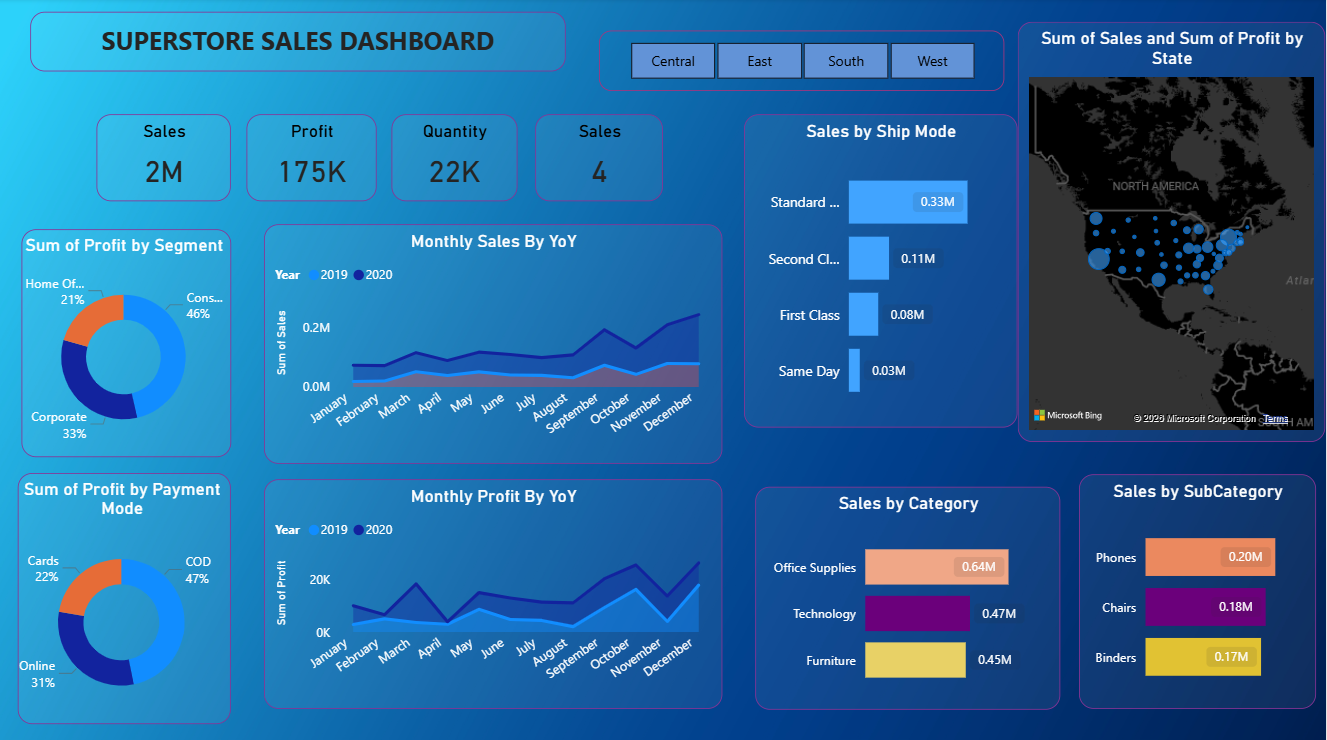

This screenshot's page, from the dashboard's own definition file:
{"tool":"powerbi","page":{"name":"Page 1","canvas":[1280,720],"ordinal":0},"visuals":[{"type":"clusteredBarChart","title":" Sales by Category","fields":{"Category":["Sheet1.Category"],"Y":["Sum(Sheet1.Sales)"]},"box":[729.8,471.3,294.7,214.9],"z":0},{"type":"clusteredBarChart","title":"Sales by SubCategory","fields":{"Category":["Sheet1.Sub-Category"],"Y":["Sum(Sheet1.Sales)"]},"box":[1042.6,459.6,228.7,226.6],"z":1000},{"type":"clusteredBarChart","title":"Sales by Ship Mode","fields":{"Category":["Sheet1.Ship Mode"],"Y":["Sum(Sheet1.Sales)"]},"box":[719.1,112.8,263.8,302.1],"z":2000},{"type":"stackedAreaChart","title":" Monthly Profit By YoY","fields":{"Category":["Sheet1.Order Date.Variation.Date Hierarchy.Month"],"Series":["Sheet1.Order Date.Variation.Date Hierarchy.Year"],"Y":["Sum(Sheet1.Profit)"]},"box":[255.3,464.9,442.6,221.3],"z":3000},{"type":"stackedAreaChart","title":" Monthly Sales By YoY","fields":{"Y":["Sum(Sheet1.Sales)"],"Category":["Sheet1.Order Date.Variation.Date Hierarchy.Month"],"Series":["Sheet1.Order Date.Variation.Date Hierarchy.Year"]},"box":[255.3,218.1,442.6,230.9],"z":4000},{"type":"map","fields":{"Category":["Sheet1.State"],"Size":["Sum(Sheet1.Sales)"]},"box":[983,22.3,296.8,405.3],"z":5000},{"type":"donutChart","fields":{"Category":["Sheet1.Segment"],"Y":["Sum(Sheet1.Profit)"]},"box":[21.3,223.4,202.1,220.2],"z":6000},{"type":"donutChart","fields":{"Category":["Sheet1.Payment Mode"],"Y":["Sum(Sheet1.Profit)"]},"box":[18.1,458.5,205.3,242.6],"z":7000},{"type":"slicer","fields":{"Values":["Sheet1.Region"]},"box":[578.7,31.9,391.5,58.5],"z":8000},{"type":"textbox","box":[29.8,12.8,517,57.4],"z":9000},{"type":"card","title":"Sales","fields":{"Values":["Sum(Sheet1.Sales)"]},"box":[93.6,112.8,129.8,84],"z":10000},{"type":"card","title":"Profit","fields":{"Values":["Sum(Sheet1.Profit)"]},"box":[239.4,112.8,125.5,84],"z":11000},{"type":"card","title":"Quantity","fields":{"Values":["Sum(Sheet1.Quantity)"]},"box":[378.7,112.8,121.3,84],"z":12000},{"type":"card","title":"Sales","fields":{"Values":["Avg(Sheet1.AvgDelivery)"]},"box":[517,112.8,123.4,84],"z":12001}]}

Visuals, with their boxes in screenshot pixels (x1, y1, x2, y2), scaled from the page's 1280x720 canvas onto the 1327x740 screenshot:
" Sales by Category" clusteredBarChart: bbox(757, 484, 1062, 705)
"Sales by SubCategory" clusteredBarChart: bbox(1081, 472, 1318, 705)
"Sales by Ship Mode" clusteredBarChart: bbox(746, 116, 1019, 426)
" Monthly Profit By YoY" stackedAreaChart: bbox(265, 478, 724, 705)
" Monthly Sales By YoY" stackedAreaChart: bbox(265, 224, 724, 461)
map - Sheet1.State x Sum(Sheet1.Sales): bbox(1019, 23, 1326, 439)
donutChart - Sheet1.Segment x Sum(Sheet1.Profit): bbox(22, 230, 232, 456)
donutChart - Sheet1.Payment Mode x Sum(Sheet1.Profit): bbox(19, 471, 232, 721)
slicer - Sheet1.Region: bbox(600, 33, 1006, 93)
textbox: bbox(31, 13, 567, 72)
"Sales" card: bbox(97, 116, 232, 202)
"Profit" card: bbox(248, 116, 378, 202)
"Quantity" card: bbox(393, 116, 518, 202)
"Sales" card: bbox(536, 116, 664, 202)
